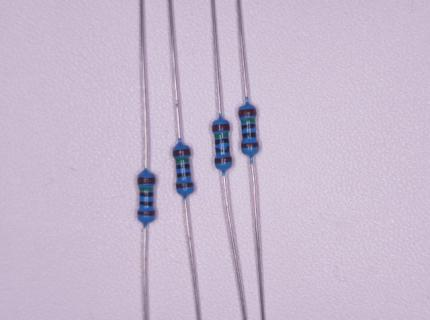Black band: (242, 132, 257, 139), (216, 146, 230, 153), (177, 172, 191, 178), (216, 139, 229, 145), (139, 201, 154, 206), (176, 164, 190, 169), (140, 192, 153, 197), (242, 124, 255, 129)
Brown band: (238, 109, 256, 118), (211, 124, 230, 132), (173, 149, 190, 157), (214, 157, 232, 164), (138, 177, 155, 184), (138, 210, 155, 216), (176, 183, 193, 189), (242, 142, 259, 148)
Green band: (241, 118, 256, 123), (214, 133, 228, 138), (176, 158, 188, 163), (139, 187, 153, 191)
